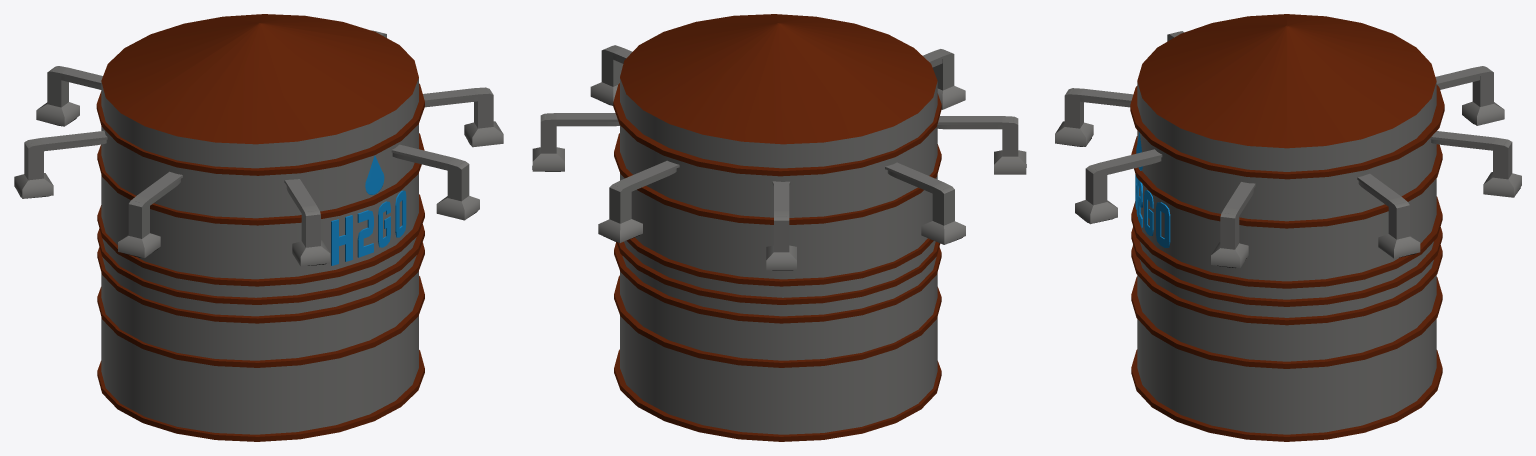
Rendered from WaterTank.fbx.
3 renders of one model, left to right at view 1: azimuth 30°, elevation 25°; view 2: azimuth 150°, elevation 25°; view 3: azimuth 270°, elevation 25°, orthographic.
Visible parts, largest first — view 1: mergedBlocks; view 2: mergedBlocks; view 3: mergedBlocks.
Boxes of the visible parts, x1,y1,x2,y2 form: mergedBlocks: [14, 14, 503, 441]; mergedBlocks: [532, 14, 1026, 441]; mergedBlocks: [1055, 14, 1521, 441].
Size of the model in its own units: 179 by 142 by 173.
